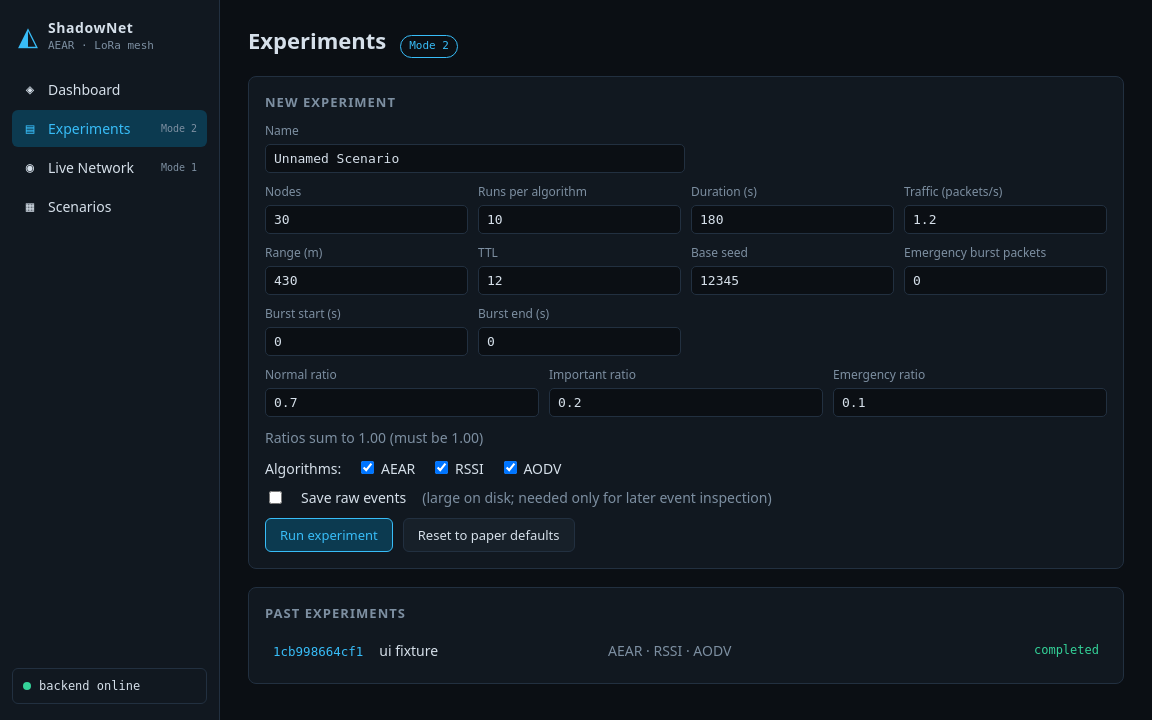
Experiments (Mode 2) › submits the scenario asynchronously with raw events off, then opens the progress page
Click the button "Run experiment": click(329, 535) [265,518,393,552]
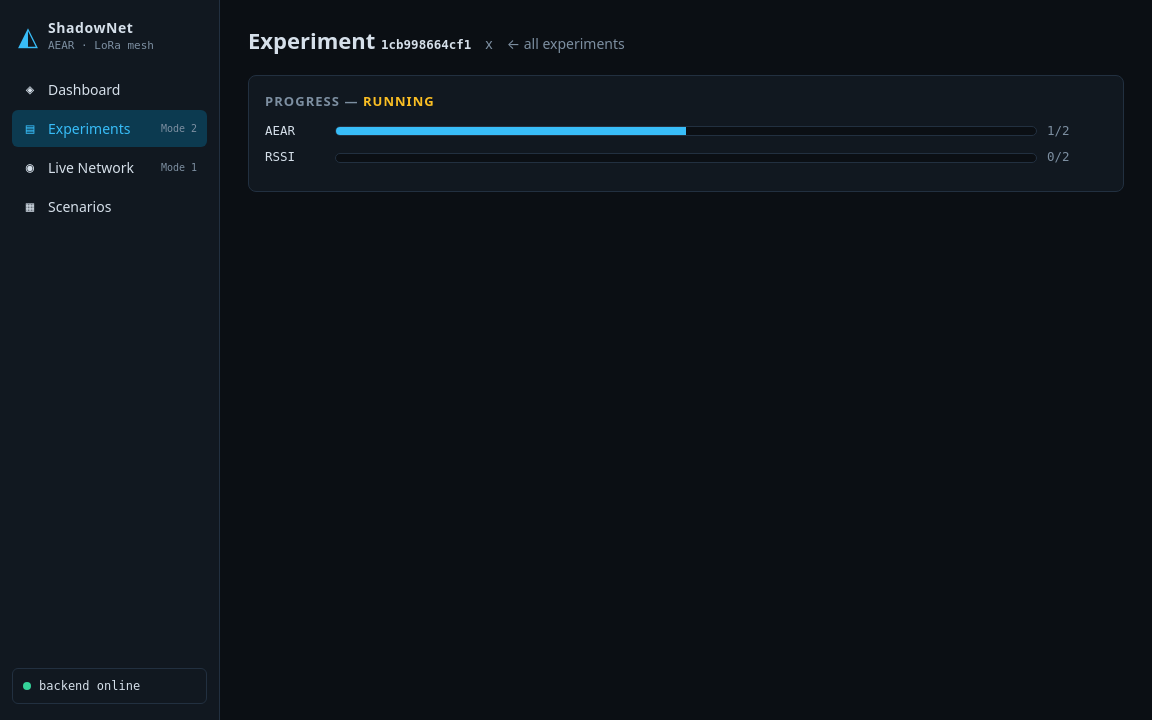
Check: the heading "Progress — running" is shown, box [265,92,435,110]
Check: the text "1/2" is shown, box [1047,122,1070,138]
